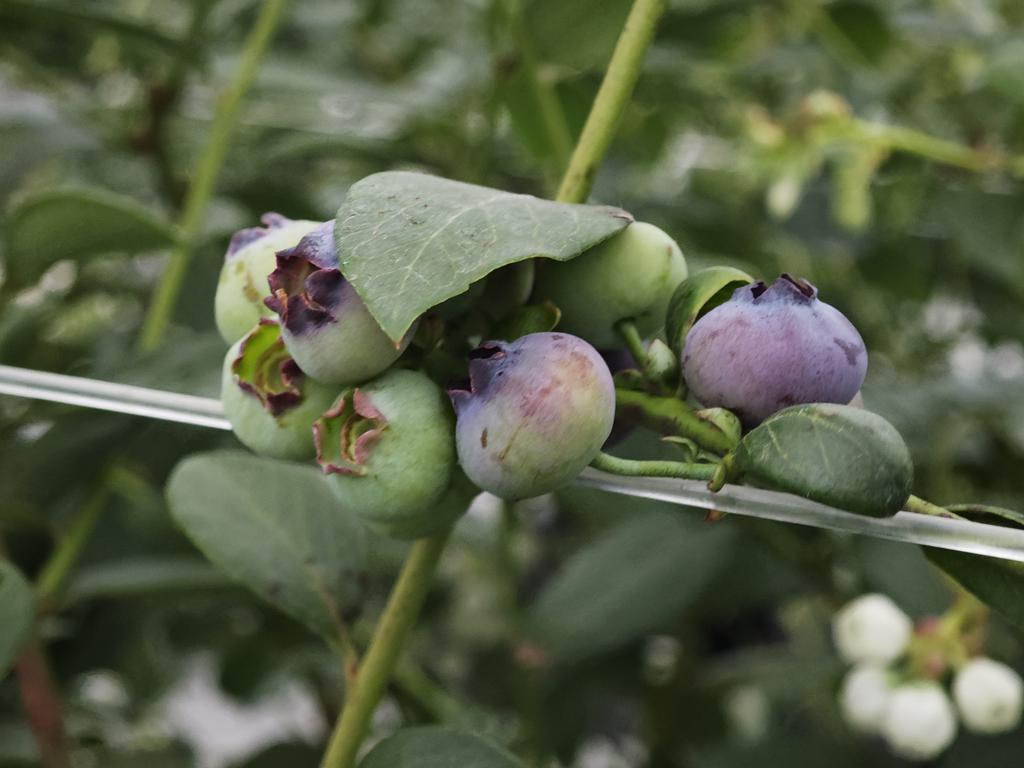Semi-RipeBlueBerry: (450, 328, 616, 502), (684, 281, 869, 418)
UnripeBlueBerry: (310, 367, 449, 520)
